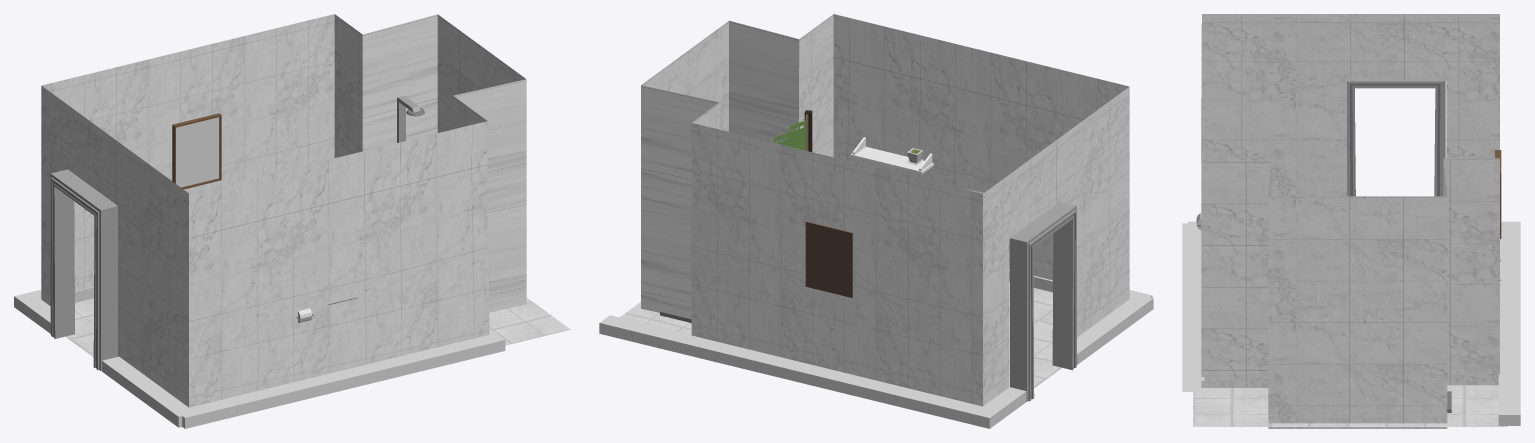
The model's file is bathroom.gltf.
3 renders of one model, left to right at view 1: azimuth 30°, elevation 25°; view 2: azimuth 150°, elevation 25°; view 3: azimuth 270°, elevation 25°, orthographic.
Parts seen in each view (by area): view 1: Plane.003, Door Frame 2.007, Wall Standard (Corner) Border.010, Mirror.001, Plane.001, Wall Standard Border.002, Wall Standard (Corner) Border.009, Simple Shower.001; view 2: Plane.003, Wall Standard (Corner) Border.009, Door Frame 2.007, Mirror.001, Plane.001, Wall Standard Border.002, Simple Shelf.002, Separator.001; view 3: Plane.003, Plane.001, Wall Standard (Corner) Border.009, Wall Standard (Corner) Border.010, Door Frame 2.007.
Part boxes in pixels (bbox=[...]): Plane.003: bbox=[41, 14, 526, 407]; Door Frame 2.007: bbox=[50, 169, 117, 370]; Wall Standard (Corner) Border.010: bbox=[174, 332, 505, 428]; Mirror.001: bbox=[172, 113, 221, 189]; Plane.001: bbox=[65, 297, 570, 357]; Wall Standard Border.002: bbox=[102, 356, 195, 427]; Wall Standard (Corner) Border.009: bbox=[14, 287, 93, 333]; Simple Shower.001: bbox=[397, 95, 425, 142]; Plane.003: bbox=[641, 14, 1129, 406]; Wall Standard (Corner) Border.009: bbox=[599, 315, 1026, 428]; Door Frame 2.007: bbox=[1010, 201, 1076, 401]; Mirror.001: bbox=[805, 221, 852, 297]; Plane.001: bbox=[620, 282, 1062, 388]; Wall Standard Border.002: bbox=[1077, 297, 1153, 364]; Simple Shelf.002: bbox=[850, 137, 933, 174]; Separator.001: bbox=[773, 110, 812, 151]; Plane.003: bbox=[1201, 14, 1499, 428]; Plane.001: bbox=[1193, 385, 1507, 426]; Wall Standard (Corner) Border.009: bbox=[1498, 221, 1520, 425]; Wall Standard (Corner) Border.010: bbox=[1182, 223, 1204, 391]; Door Frame 2.007: bbox=[1347, 81, 1445, 196].
Size of the model in its own units: 5.51 by 3.06 by 4.04.
6 materials, 4 textured.
